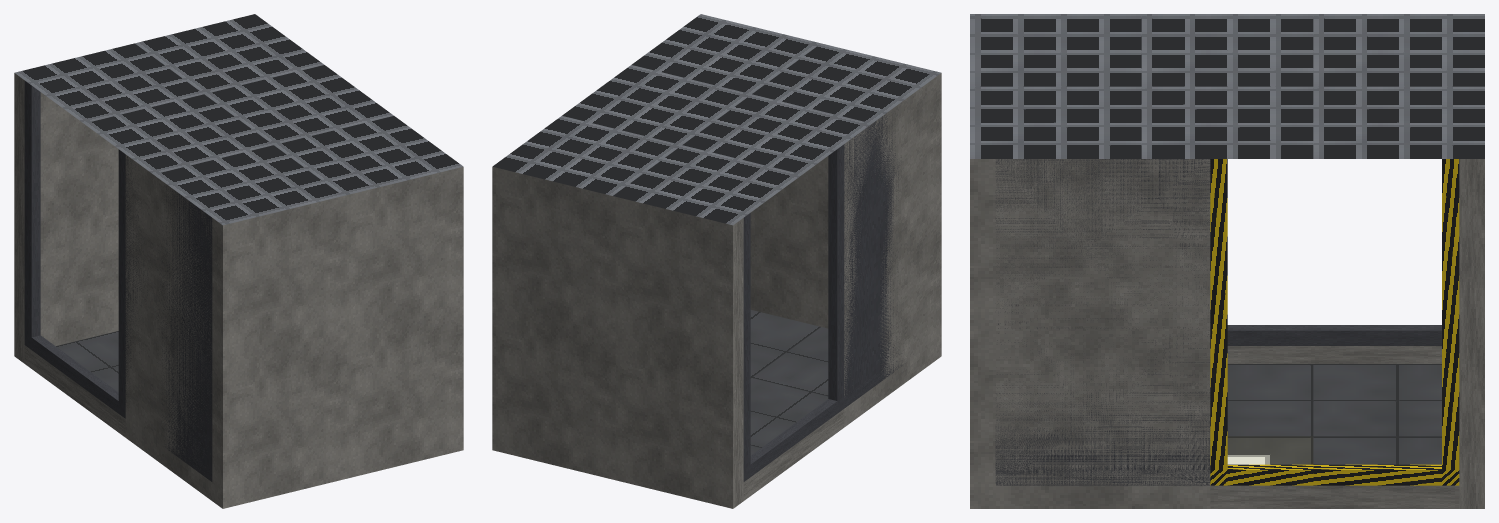
File: airlock.obj
The picture shows the model from 3 angles, left to right: view 1: azimuth 30°, elevation 25°; view 2: azimuth 150°, elevation 25°; view 3: azimuth 270°, elevation 25°; orthographic projection. The views are drawn at different scales.
Size of the model in its own units: 160 by 180 by 240.
Materials: 6 (6 with a texture image).
